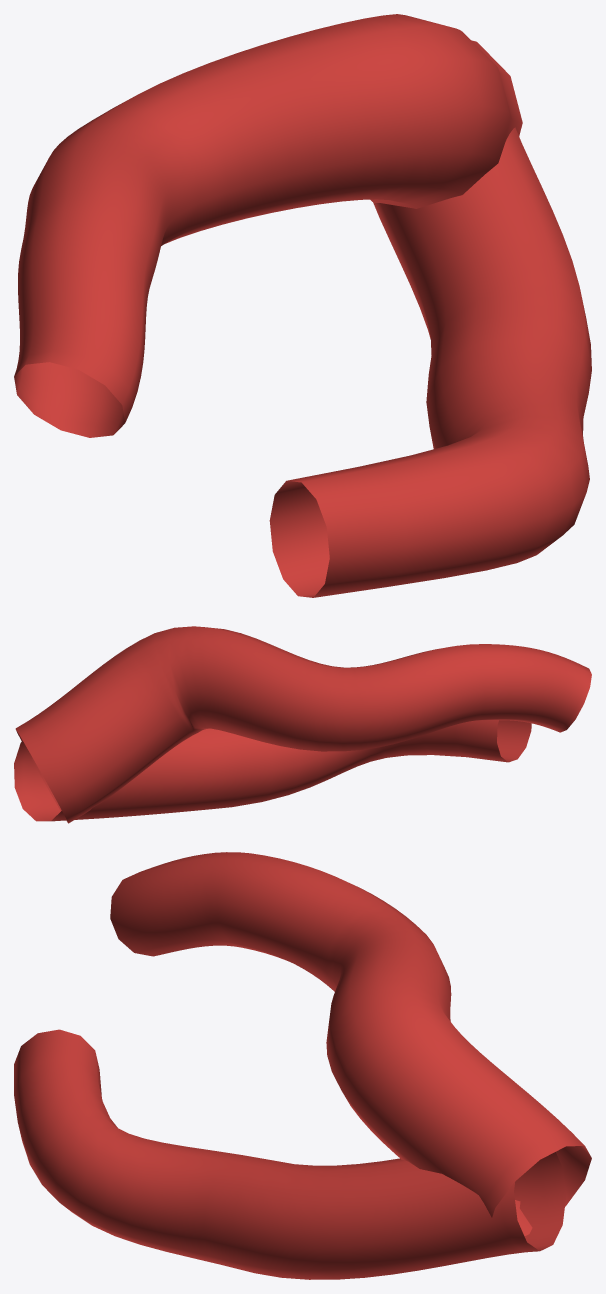
The picture shows the model from 3 angles, top to bottom: view 1: azimuth 30°, elevation 25°; view 2: azimuth 150°, elevation 25°; view 3: azimuth 270°, elevation 25°; orthographic projection. The views are drawn at different scales.
Visible parts, largest first — view 1: 右侧大脑中动脉M2段岛叶支; view 2: 右侧大脑中动脉M2段岛叶支; view 3: 右侧大脑中动脉M2段岛叶支.
Boxes of the visible parts, left/top/right/bottom form: 右侧大脑中动脉M2段岛叶支: left=14, top=14, right=591, bottom=597; 右侧大脑中动脉M2段岛叶支: left=14, top=626, right=591, bottom=823; 右侧大脑中动脉M2段岛叶支: left=14, top=852, right=591, bottom=1279.
Bounding box in the file's own units: 0.0187 × 0.00917 × 0.0179.
